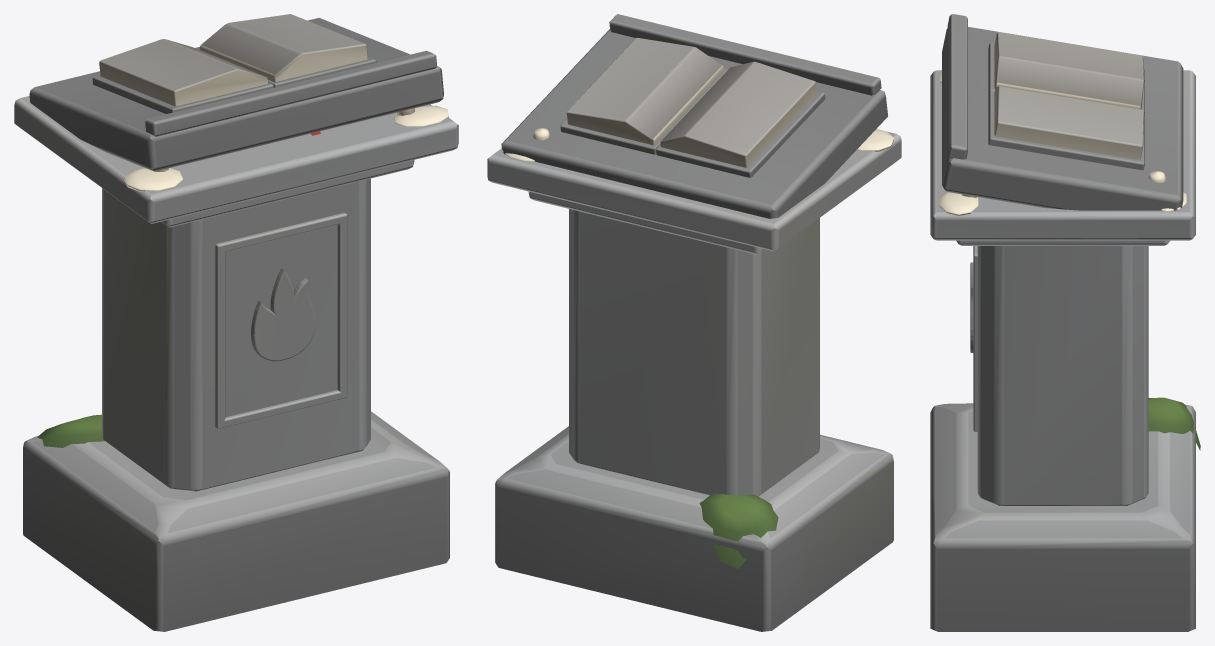
File: mech_candles.glb
3 views of the same model, side by side, from view 1: azimuth 30°, elevation 25°; view 2: azimuth 150°, elevation 25°; view 3: azimuth 270°, elevation 25° (orthographic). The views are drawn at different scales.
Visible parts, largest first — view 1: mech_candles_LOD0; view 2: mech_candles_LOD0; view 3: mech_candles_LOD0.
Part boxes in pixels (bbox=[...]): mech_candles_LOD0: bbox=[14, 14, 458, 631]; mech_candles_LOD0: bbox=[487, 14, 901, 631]; mech_candles_LOD0: bbox=[930, 14, 1200, 631].
Size of what is drawn, in the model's own units: 1.11 by 1.71 by 0.8544.
